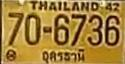0: (24, 12, 40, 44)
3: (87, 14, 102, 45)
6: (53, 13, 68, 44), (104, 14, 119, 45)
7: (8, 12, 23, 44), (71, 13, 85, 45)
UDN: (41, 47, 87, 64)
